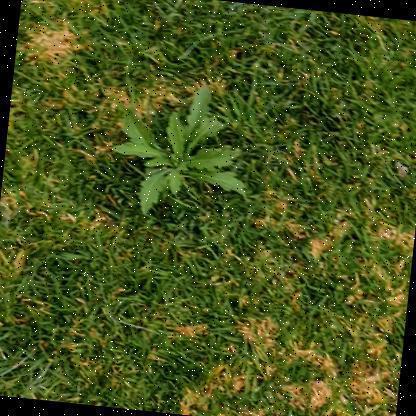Weeds: (103, 79, 256, 226)
